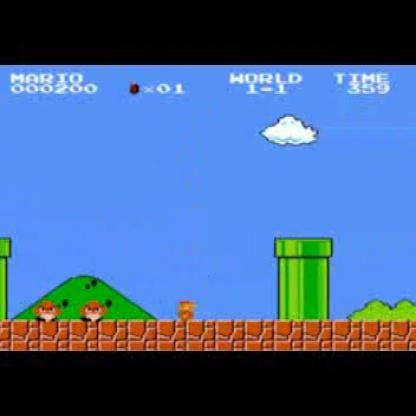Goomba: (79, 297, 107, 323), (35, 298, 60, 324)
